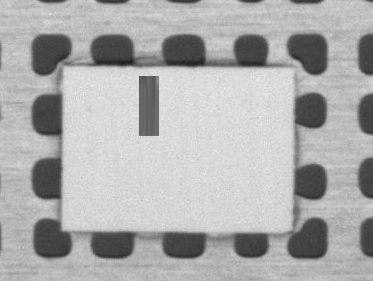DIE_INK: (185, 57, 211, 102)
